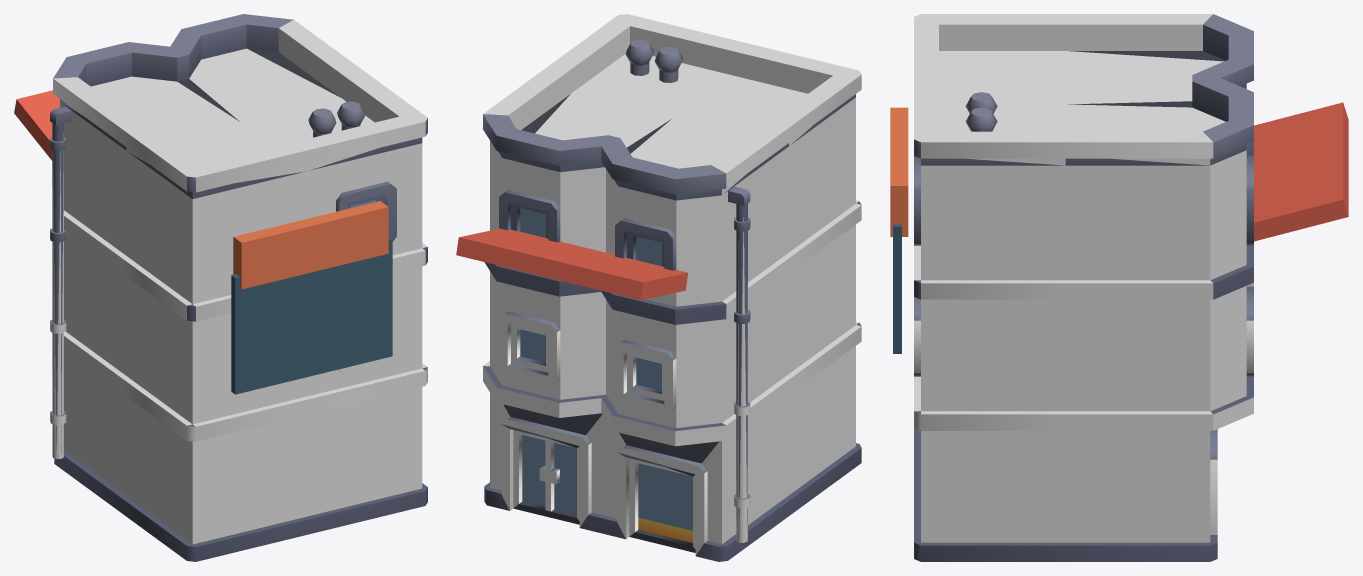
Rendered from mercearia-fachada.glb.
3 renders of one model, left to right at view 1: azimuth 30°, elevation 25°; view 2: azimuth 150°, elevation 25°; view 3: azimuth 270°, elevation 25°, orthographic. The views are drawn at different scales.
Parts seen in each view (by area): view 1: building-a, Storefront_Glass, Storefront_Sign, Striped_Awning; view 2: building-a, Striped_Awning; view 3: building-a, Striped_Awning, Storefront_Sign, Storefront_Glass.
Boxes of the visible parts, <box> form: building-a: <box>50,14,427,561</box>; Storefront_Glass: <box>231,237,392,394</box>; Storefront_Sign: <box>233,201,388,289</box>; Striped_Awning: <box>14,90,59,160</box>; building-a: <box>483,14,861,561</box>; Striped_Awning: <box>456,228,687,300</box>; building-a: <box>914,14,1253,561</box>; Striped_Awning: <box>1254,102,1348,241</box>; Storefront_Sign: <box>890,107,908,236</box>; Storefront_Glass: <box>893,224,901,353</box>.
Size of the model in its own units: 0.8836 by 1.29 by 1.27.
9 materials, 1 textured.
